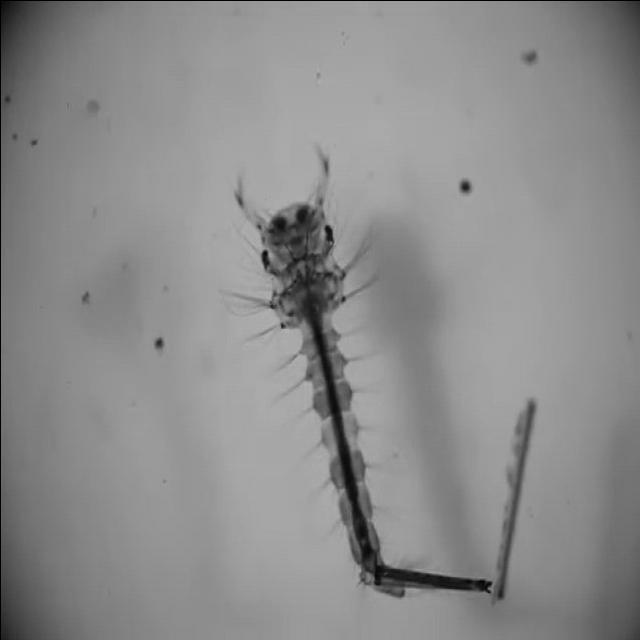larvas: (253, 208, 537, 595)
